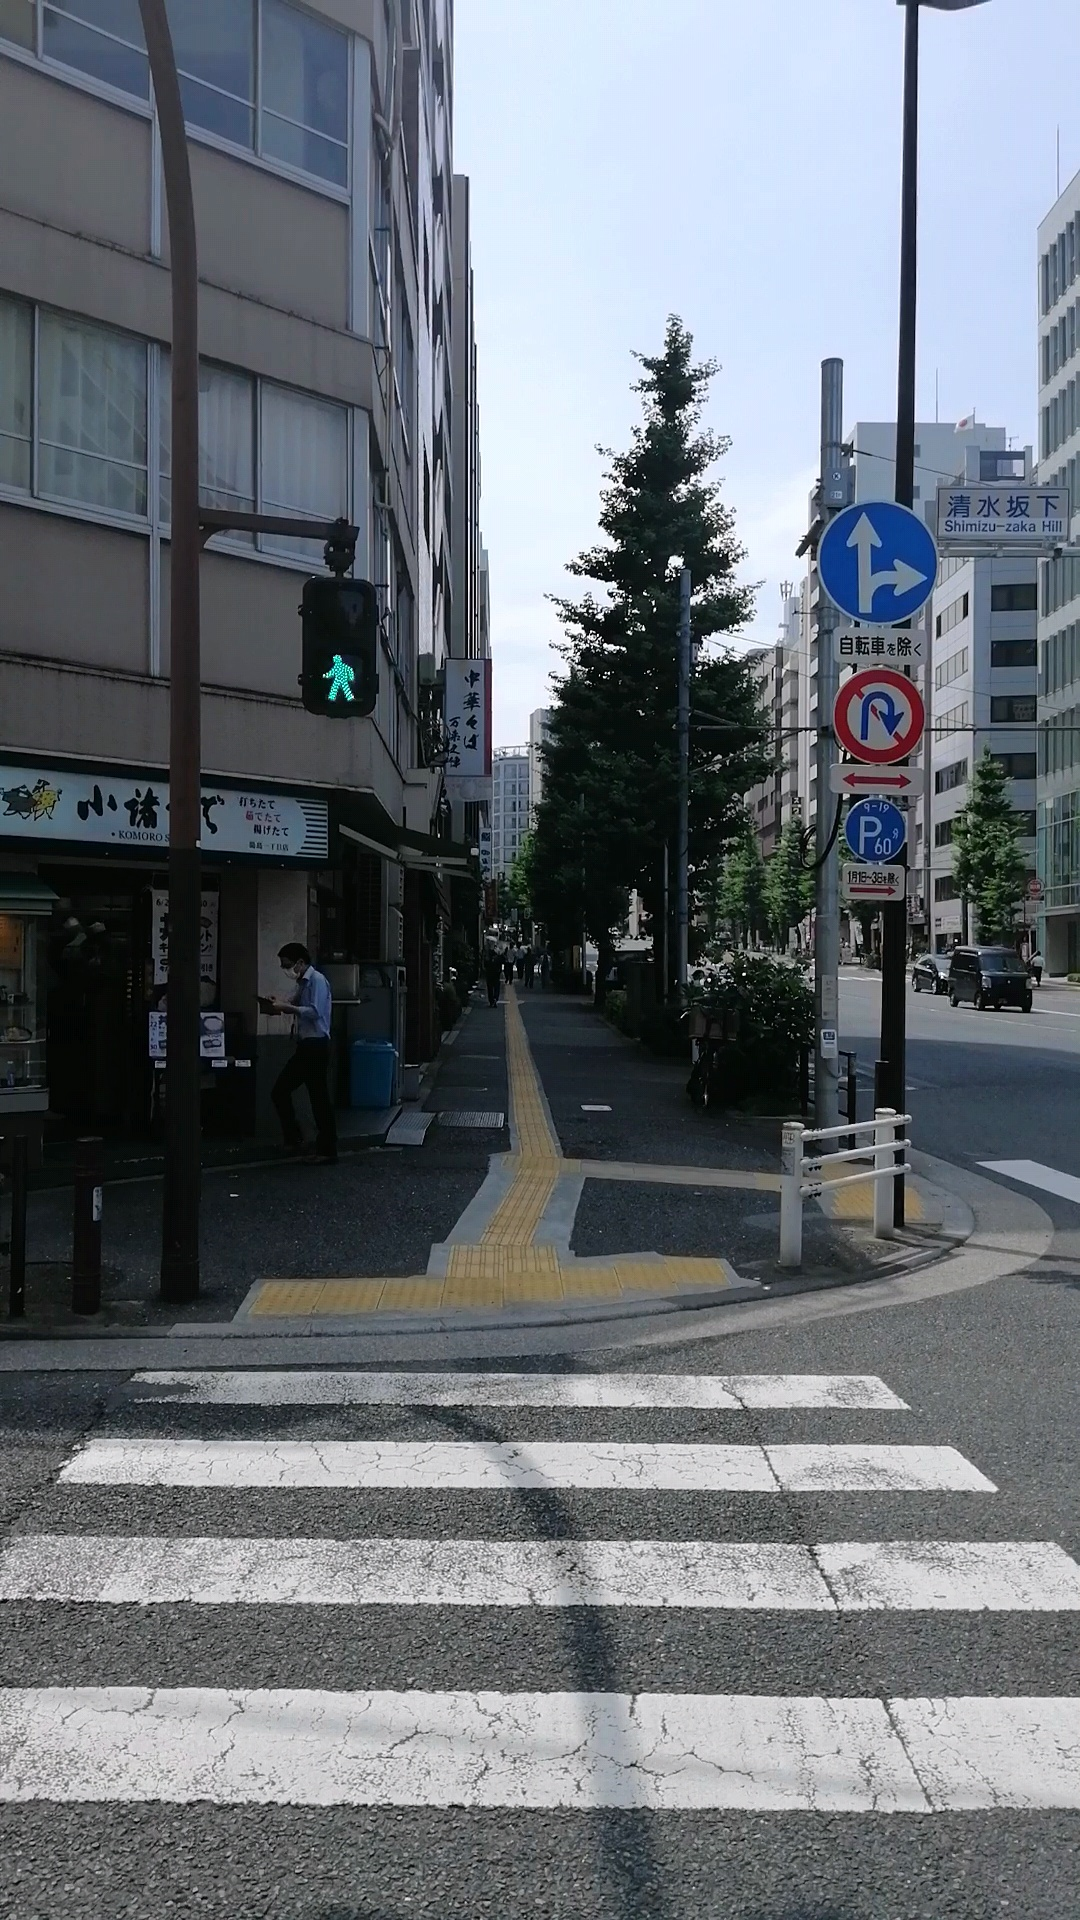green: (302, 578, 377, 720)
